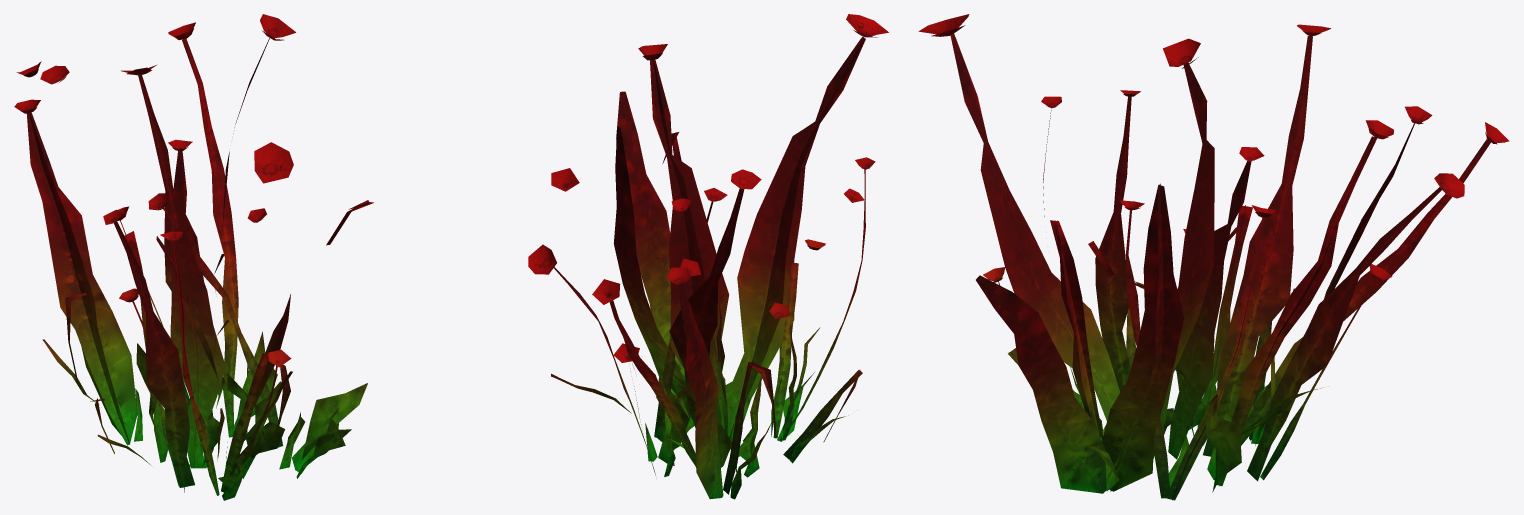
Rendered from White Everlasting_LOD1_Var4_ucvobbbia.glb.
The picture shows the model from 3 angles, left to right: view 1: azimuth 30°, elevation 25°; view 2: azimuth 150°, elevation 25°; view 3: azimuth 270°, elevation 25°; orthographic projection. The views are drawn at different scales.
Parts seen in each view (by area): view 1: _0d92_Var4_LOD1; view 2: _0d92_Var4_LOD1; view 3: _0d92_Var4_LOD1.
Part boxes in pixels (box(x1,y1,x2,y2)): _0d92_Var4_LOD1: box(14, 14, 373, 500); _0d92_Var4_LOD1: box(528, 14, 888, 499); _0d92_Var4_LOD1: box(918, 14, 1509, 500).
Bounding box in the file's own units: 0.4724 × 0.5877 × 0.6859.
1 material, 1 textured.
